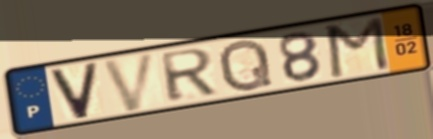8: (276, 29, 324, 84)
M: (324, 14, 392, 81)
Q: (216, 36, 276, 94)
R: (157, 46, 220, 105)
V: (99, 49, 160, 115), (47, 59, 101, 122)
